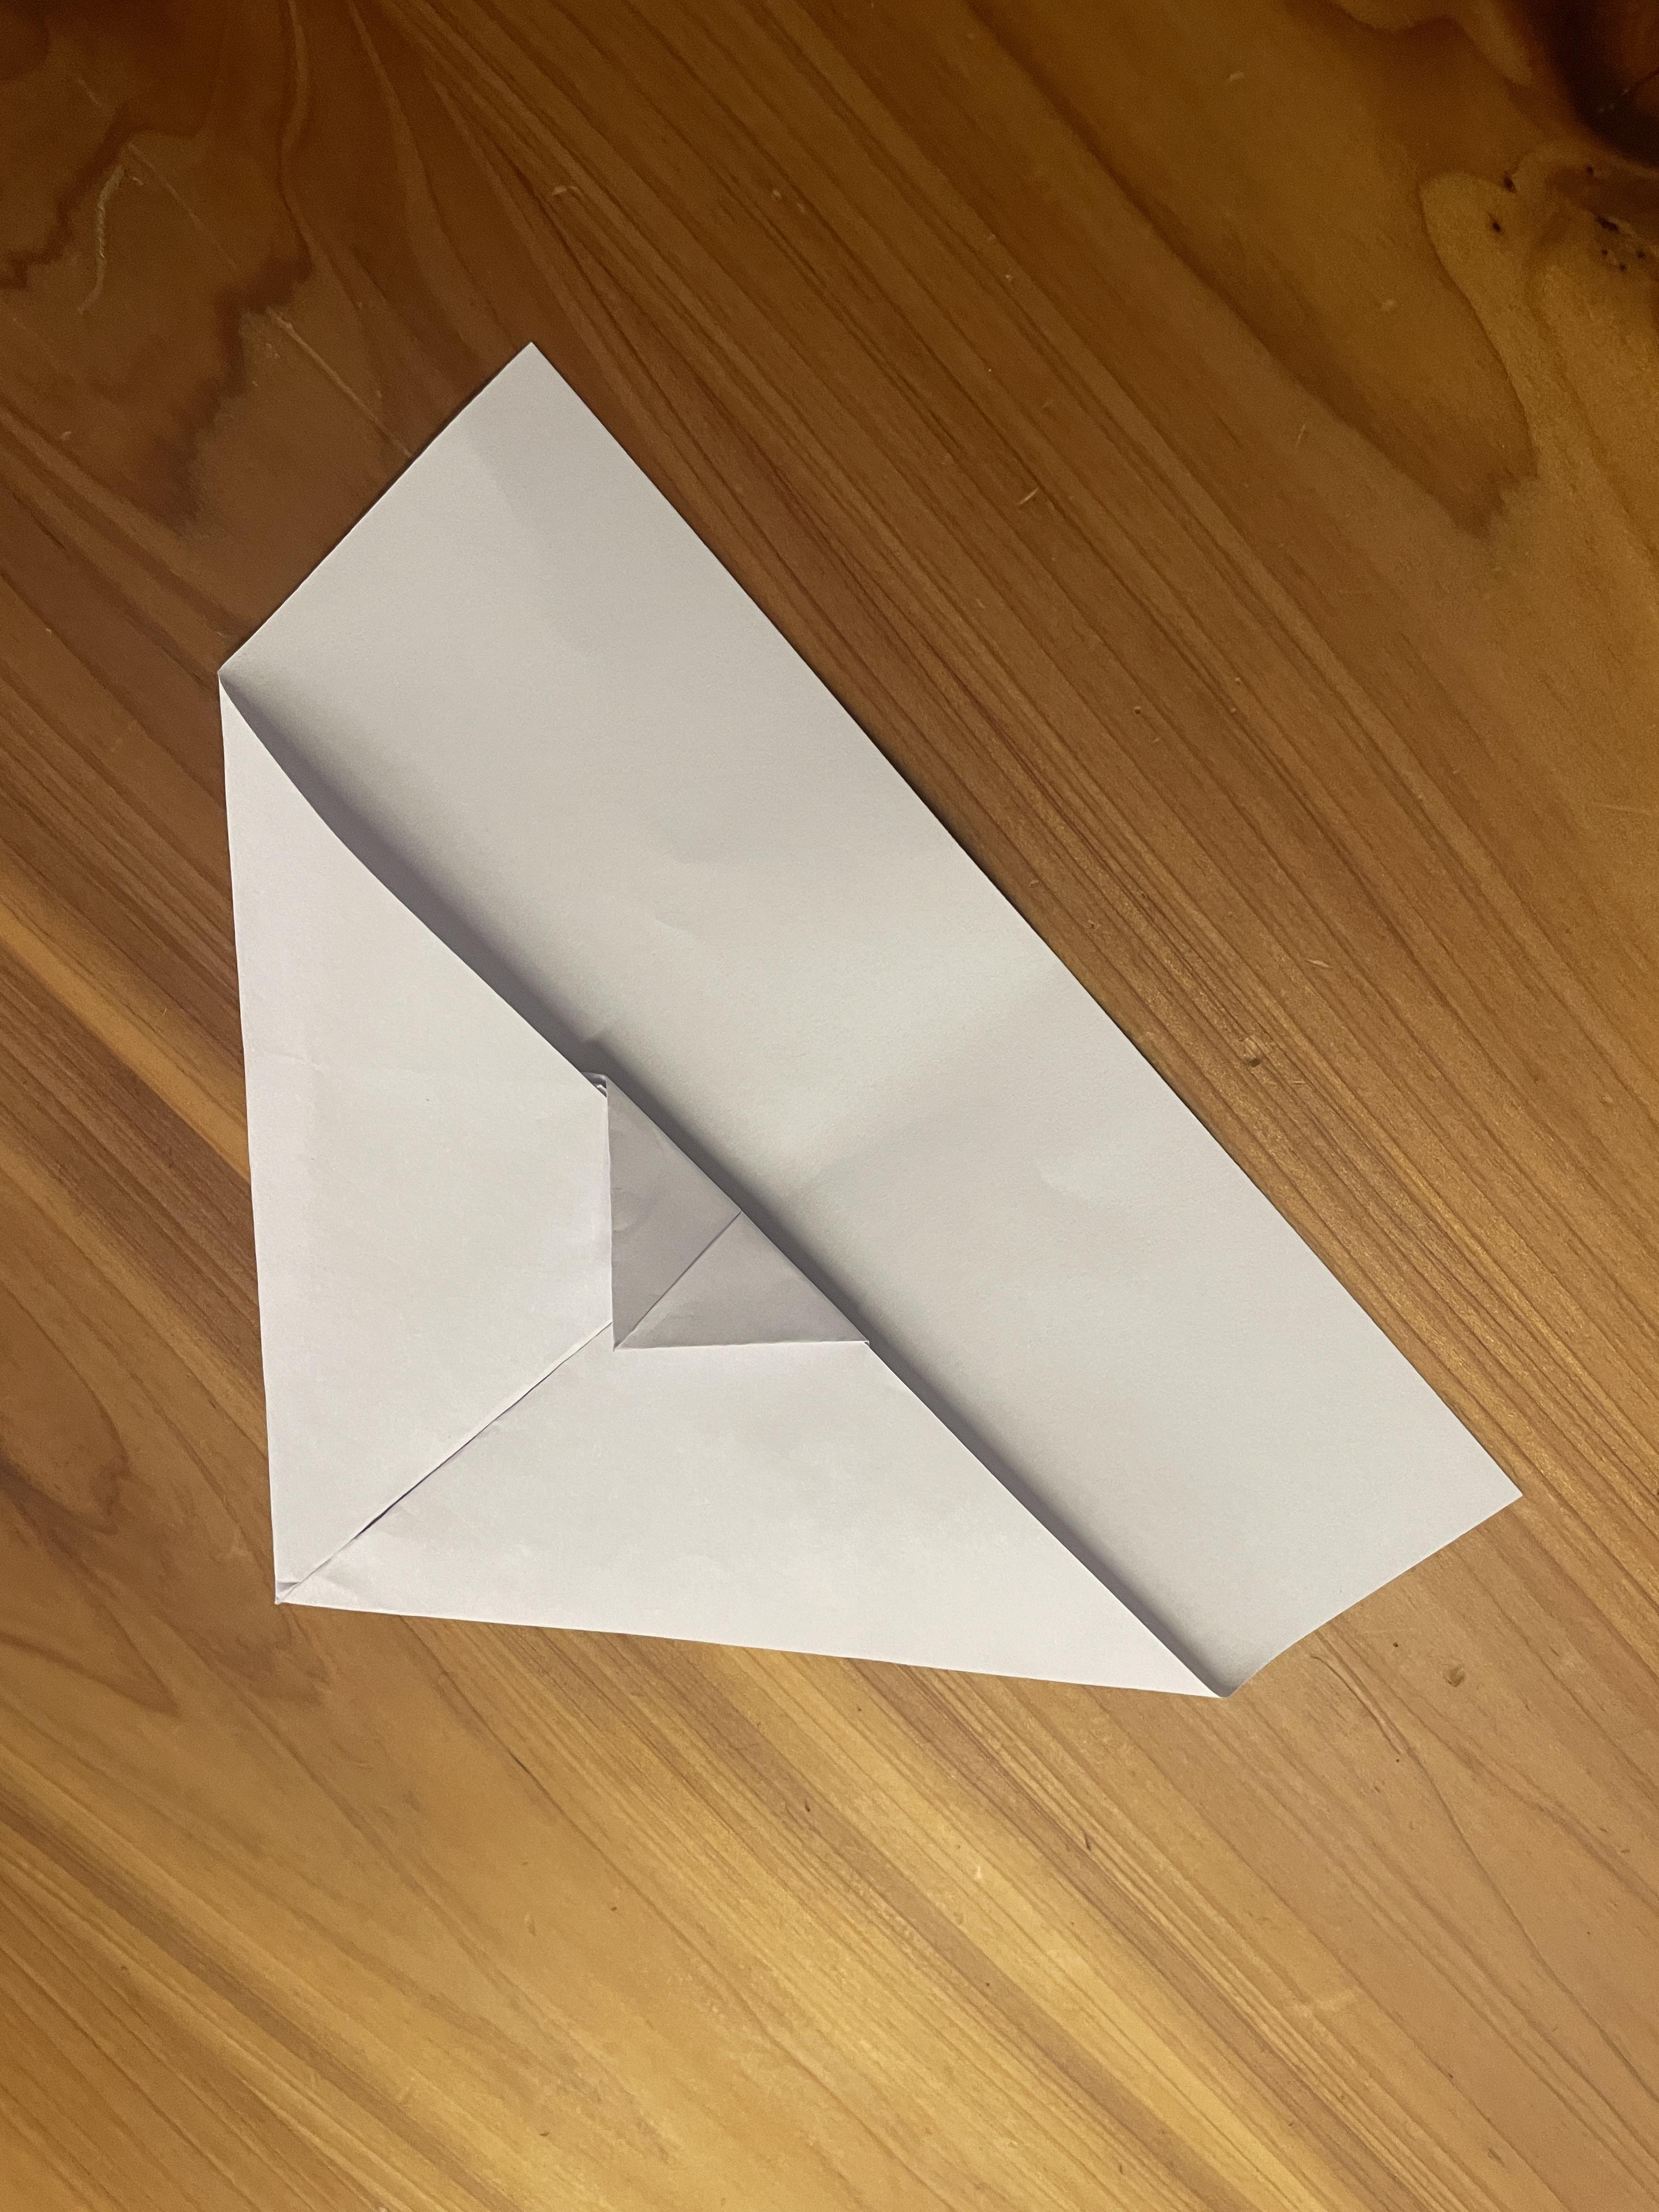shape_2: (54, 237, 1601, 1916)
